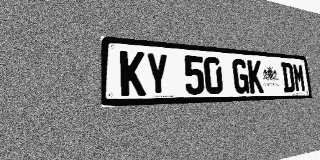0: (203, 56, 223, 94)
5: (184, 55, 205, 95)
D: (281, 62, 295, 93)
G: (232, 59, 250, 94)
K: (120, 50, 146, 96), (247, 60, 264, 93)
M: (292, 63, 306, 92)
Y: (145, 52, 169, 96)
